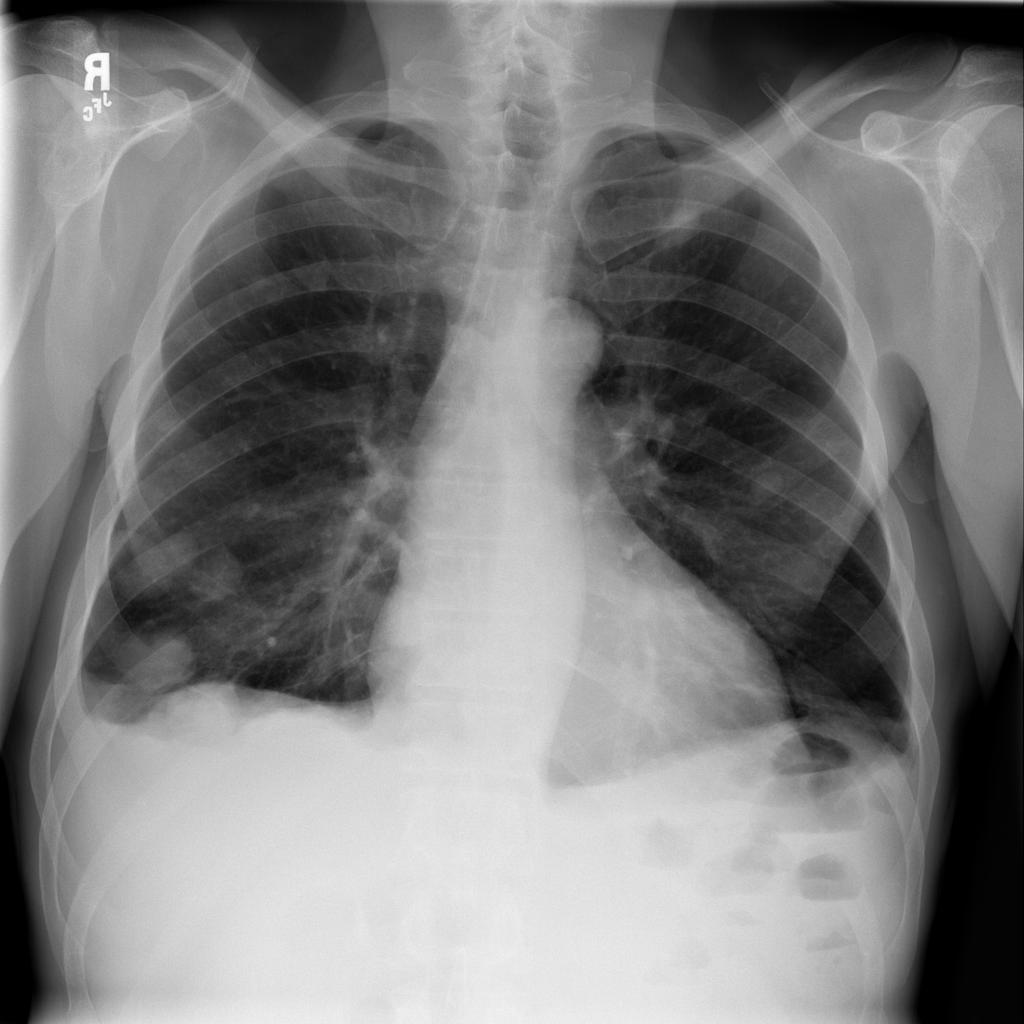nodule: (90, 619, 220, 709), (98, 508, 215, 607), (164, 678, 259, 748), (177, 545, 257, 613), (729, 451, 803, 518)
